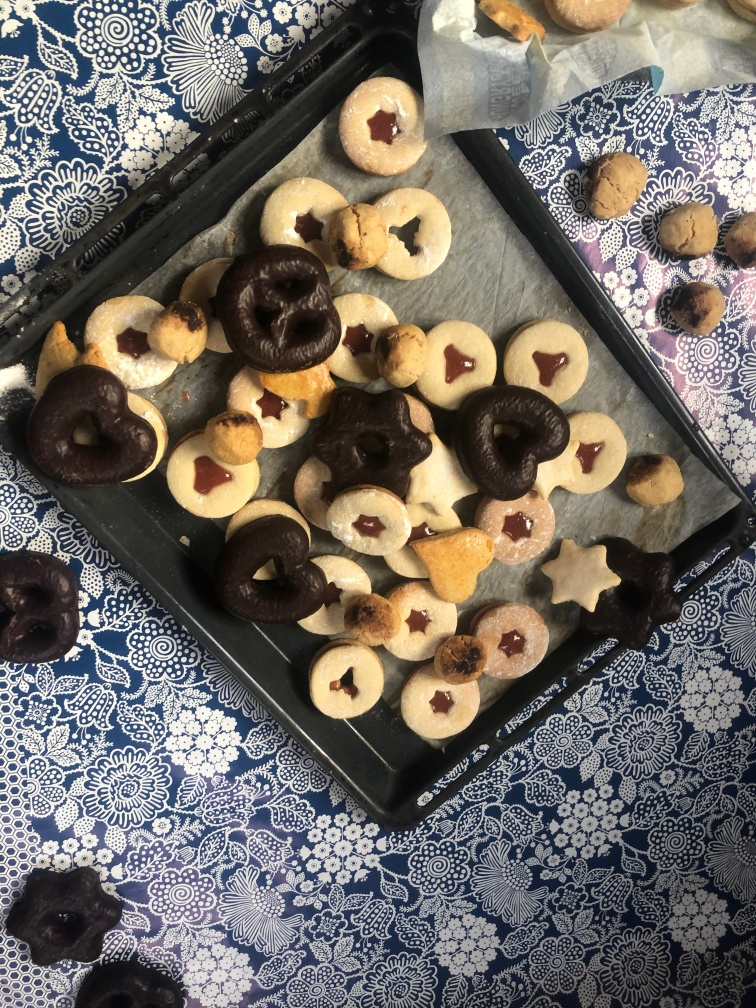bretzel: (218, 245, 337, 365), (1, 552, 77, 667)
christmas shortbread with jam: (335, 72, 431, 177), (80, 299, 172, 385), (369, 188, 450, 283), (166, 433, 256, 516), (504, 316, 589, 400), (260, 179, 346, 254), (400, 669, 483, 743), (427, 318, 493, 409), (326, 488, 408, 556), (482, 494, 558, 566), (569, 412, 630, 501), (307, 643, 376, 716), (480, 602, 544, 679), (394, 582, 446, 665)
heart: (30, 364, 153, 484), (457, 381, 570, 504), (212, 514, 322, 624), (407, 524, 494, 605)
snowball: (584, 149, 647, 223), (622, 447, 681, 519), (650, 199, 717, 258), (147, 299, 206, 364), (374, 317, 429, 385), (658, 280, 722, 338), (338, 196, 388, 269), (202, 407, 266, 462), (430, 632, 485, 690), (344, 590, 395, 646), (723, 211, 756, 268)
star: (307, 385, 427, 498), (1, 859, 117, 966), (591, 538, 678, 649), (533, 539, 626, 612)
